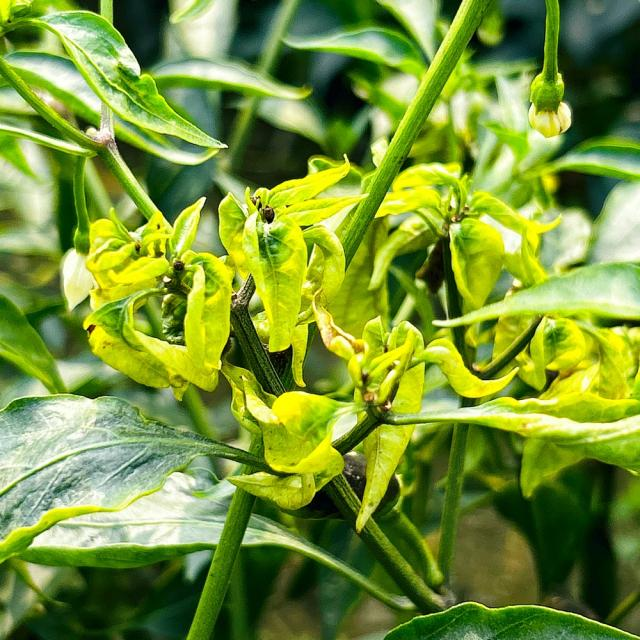Chilli_Leaf_Curl: (1, 2, 638, 636), (1, 392, 318, 570), (334, 0, 491, 273), (2, 3, 228, 165), (80, 194, 234, 400), (217, 153, 368, 353), (369, 160, 561, 314), (222, 356, 357, 512), (347, 316, 426, 533), (430, 259, 639, 330), (381, 600, 639, 638), (525, 0, 573, 138)
